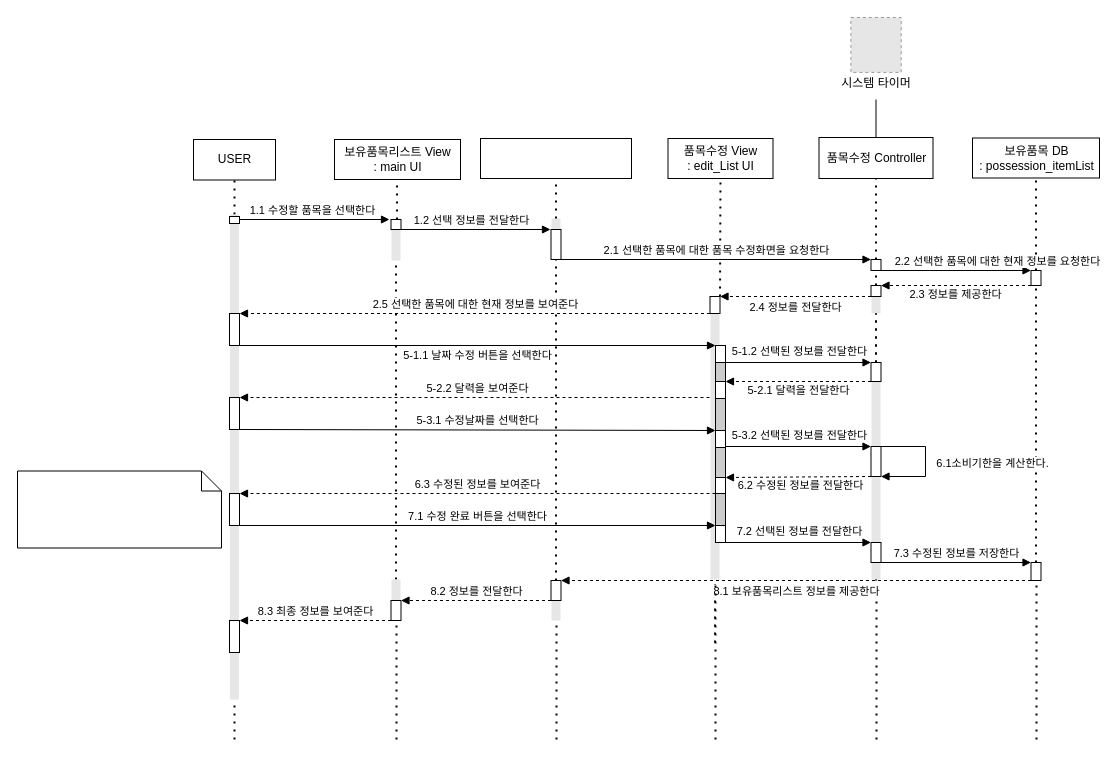
The diagram is 1117 pixels wide and 759 high, and some of its shapes have lost their labels. Grey dashed boxes stand in for pictures. The shapes that lost their labels are listed below. From the top down, each one's centre as x and y in pixels, then its label:
At (556,158): "보유품목리스트 Controller : main UI".
At (119,509): "7A. 사용자가 취소버튼을 누를 경우, 시스템이 '수정을 취소하시겠습니까?' 라는 팝업창을 보여준다".
